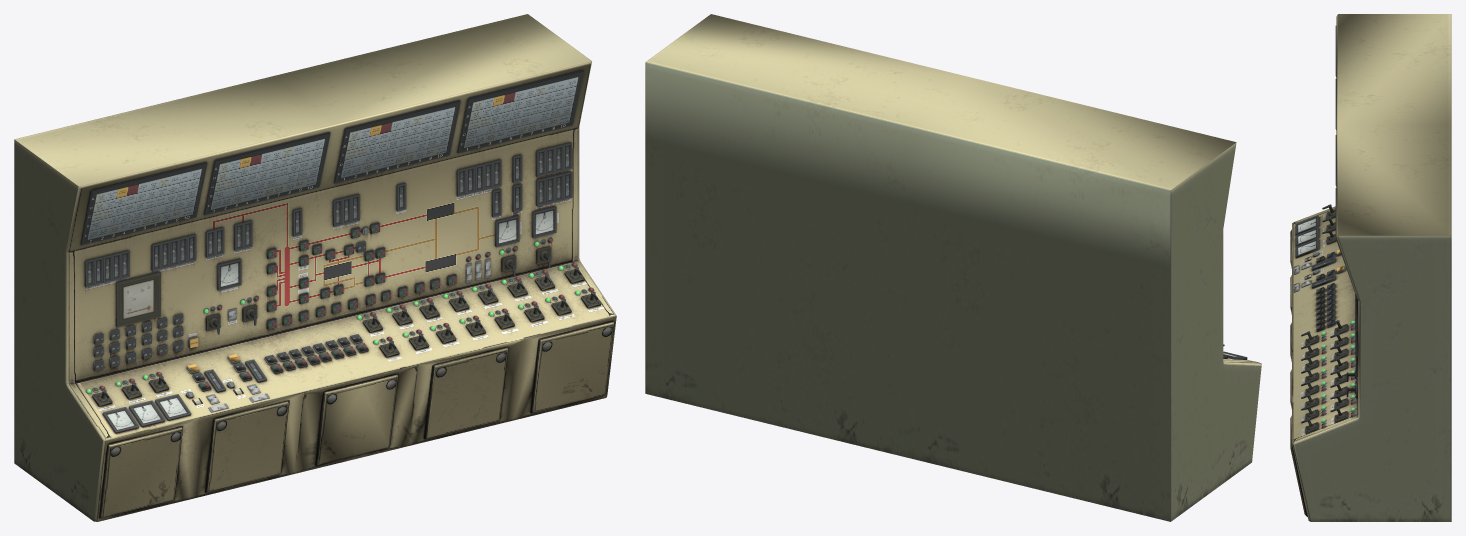
File: Control panel.fbx
3 views of the same model, side by side, from view 1: azimuth 30°, elevation 25°; view 2: azimuth 150°, elevation 25°; view 3: azimuth 270°, elevation 25° (orthographic). The views are drawn at different scales.
Parts seen in each view (by area): view 1: Object006_Material #63_0; view 2: Object006_Material #63_0; view 3: Object006_Material #63_0.
Boxes of the visible parts, left/top/right/bottom form: Object006_Material #63_0: left=14, top=14, right=616, bottom=521; Object006_Material #63_0: left=645, top=14, right=1261, bottom=521; Object006_Material #63_0: left=1290, top=14, right=1451, bottom=521.
Bounding box in the file's own units: 372 × 224 × 115.
2 materials, 2 textured.
